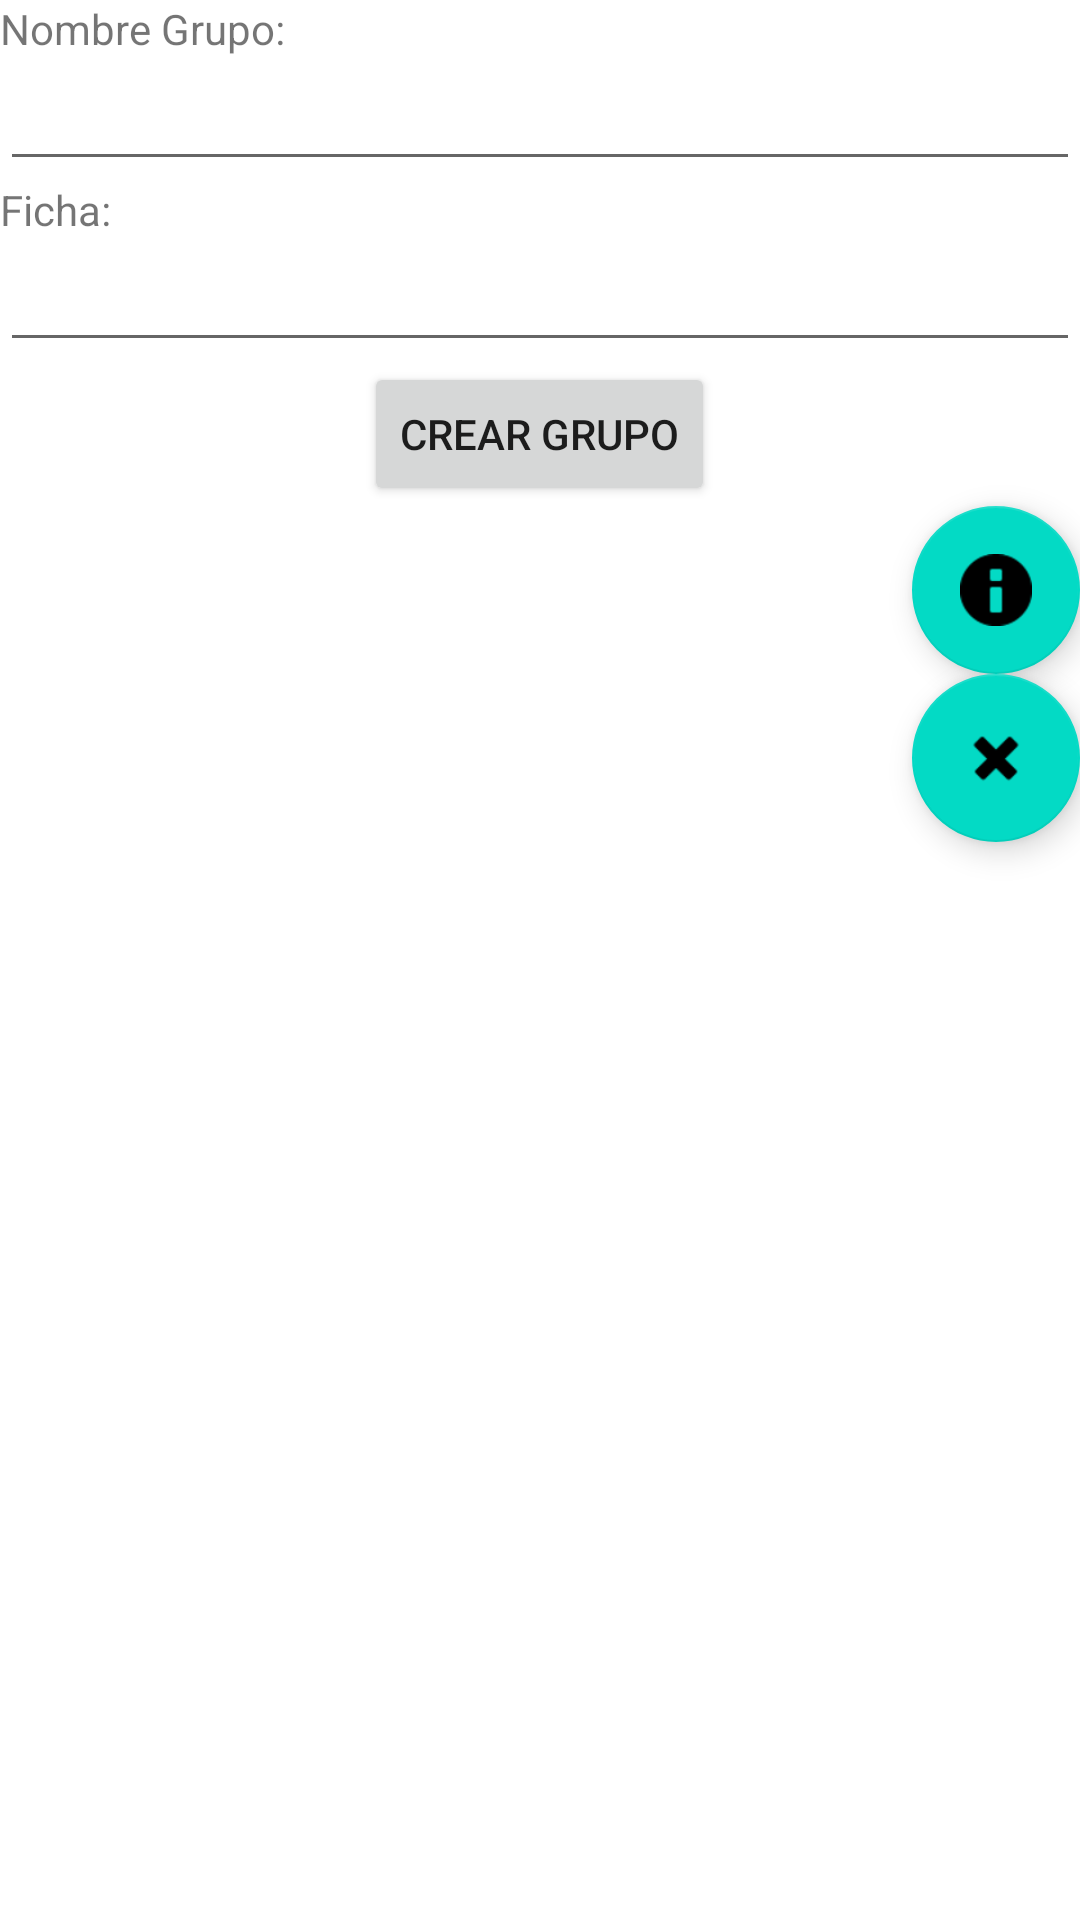

Where to tap for icons on this 1080 x 1920 app screen, as point (x, y):
delete: point (996, 758)
info: point (996, 590)
